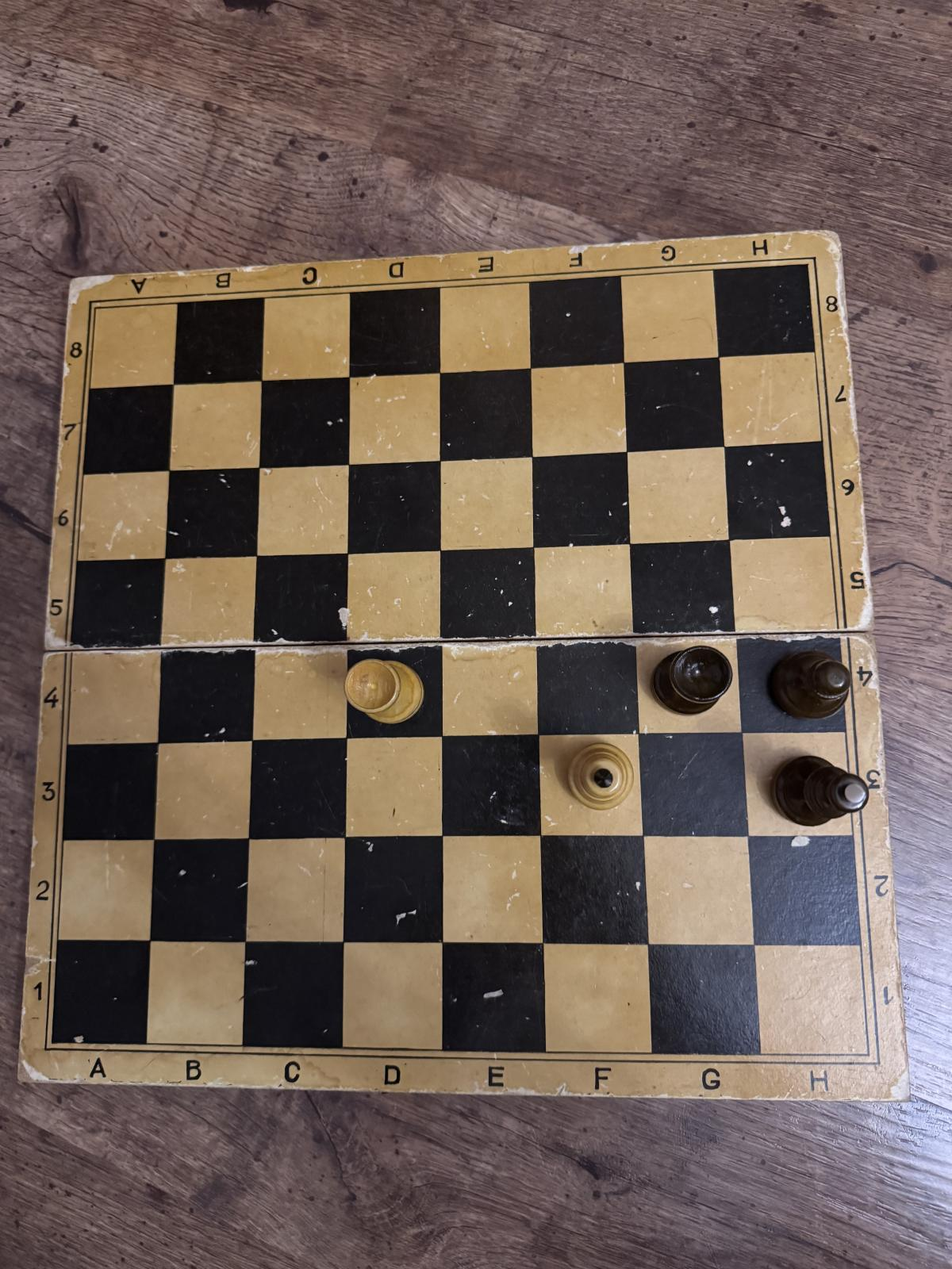Chess-Board: (52, 264, 868, 1054)
